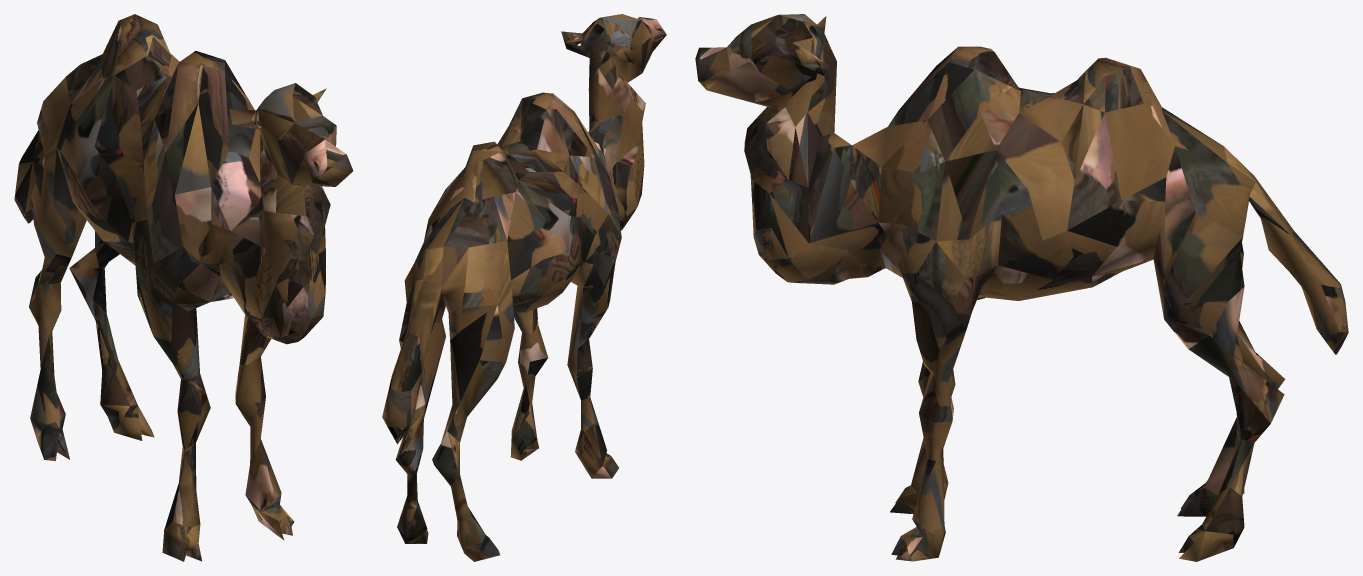
Rendered from camello.fbx.
3 views of the same model, side by side, from view 1: azimuth 30°, elevation 25°; view 2: azimuth 150°, elevation 25°; view 3: azimuth 270°, elevation 25° (orthographic). The views are drawn at different scales.
Visible parts, largest first — view 1: temp.001; view 2: temp.001; view 3: temp.001.
Part boxes in pixels (left/top/right/bottom): temp.001: left=14, top=14, right=353, bottom=561; temp.001: left=382, top=14, right=666, bottom=561; temp.001: left=695, top=14, right=1348, bottom=561.
Bounding box in the file's own units: 57.51 × 174 × 199.
